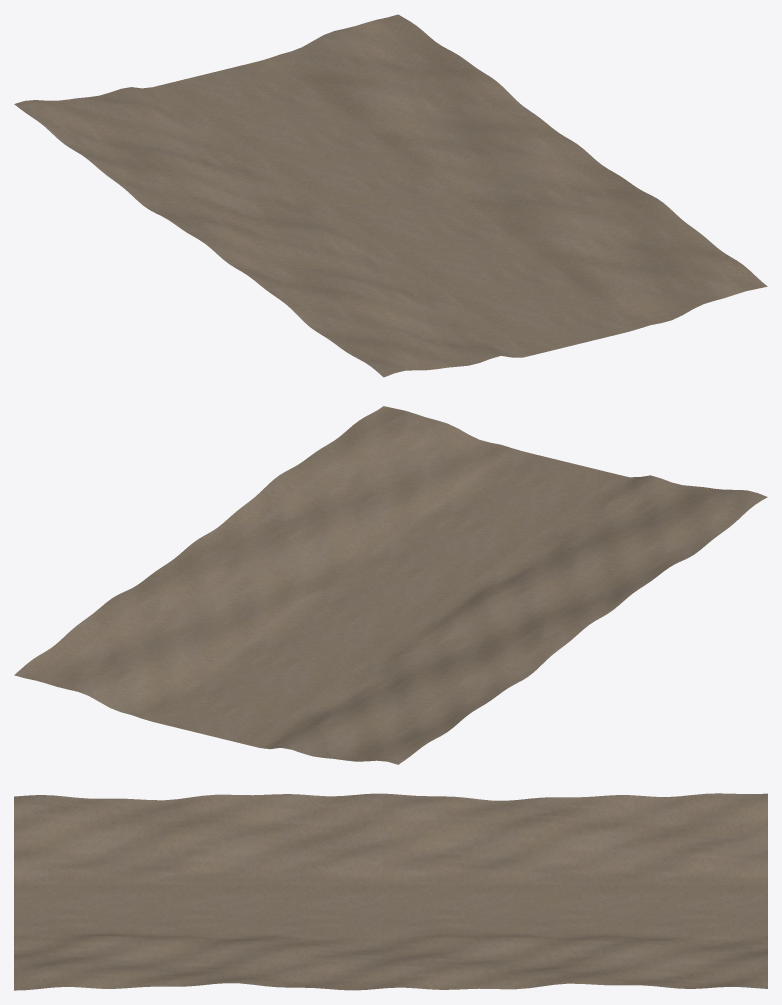
Rendered from sand.glb.
3 views of the same model, one above another, from view 1: azimuth 30°, elevation 25°; view 2: azimuth 150°, elevation 25°; view 3: azimuth 270°, elevation 25° (orthographic).
Visible parts, largest first — view 1: sand; view 2: sand; view 3: sand.
Boxes of the visible parts, bbox=[...] form: sand: bbox=[14, 14, 767, 377]; sand: bbox=[14, 406, 767, 764]; sand: bbox=[14, 793, 767, 990].
Bounding box in the file's own units: 18 × 0.8827 × 30.
1 material, 1 textured.
